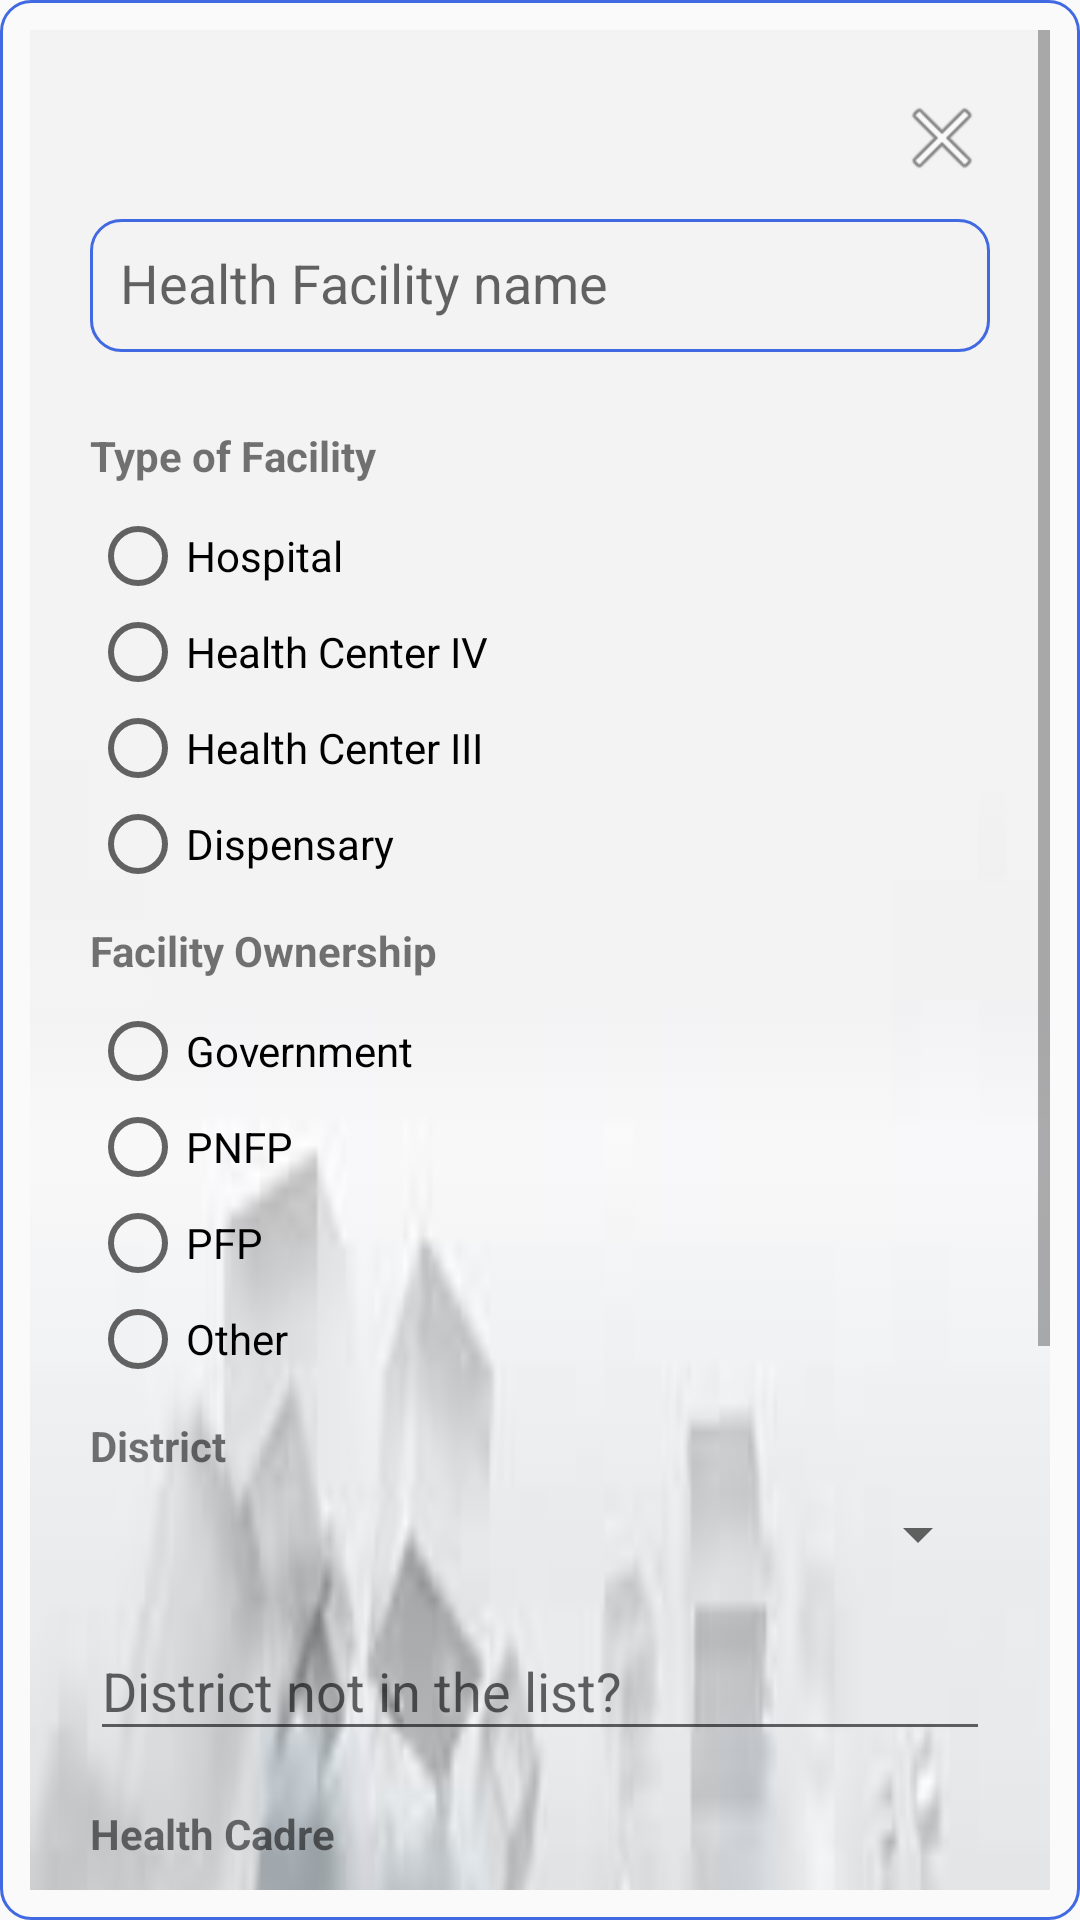

Icons on this 1080px x 1920px Android screen, each with its box as (x1, y1, x2, y2):
close clear cancel: (912, 108, 972, 168)
